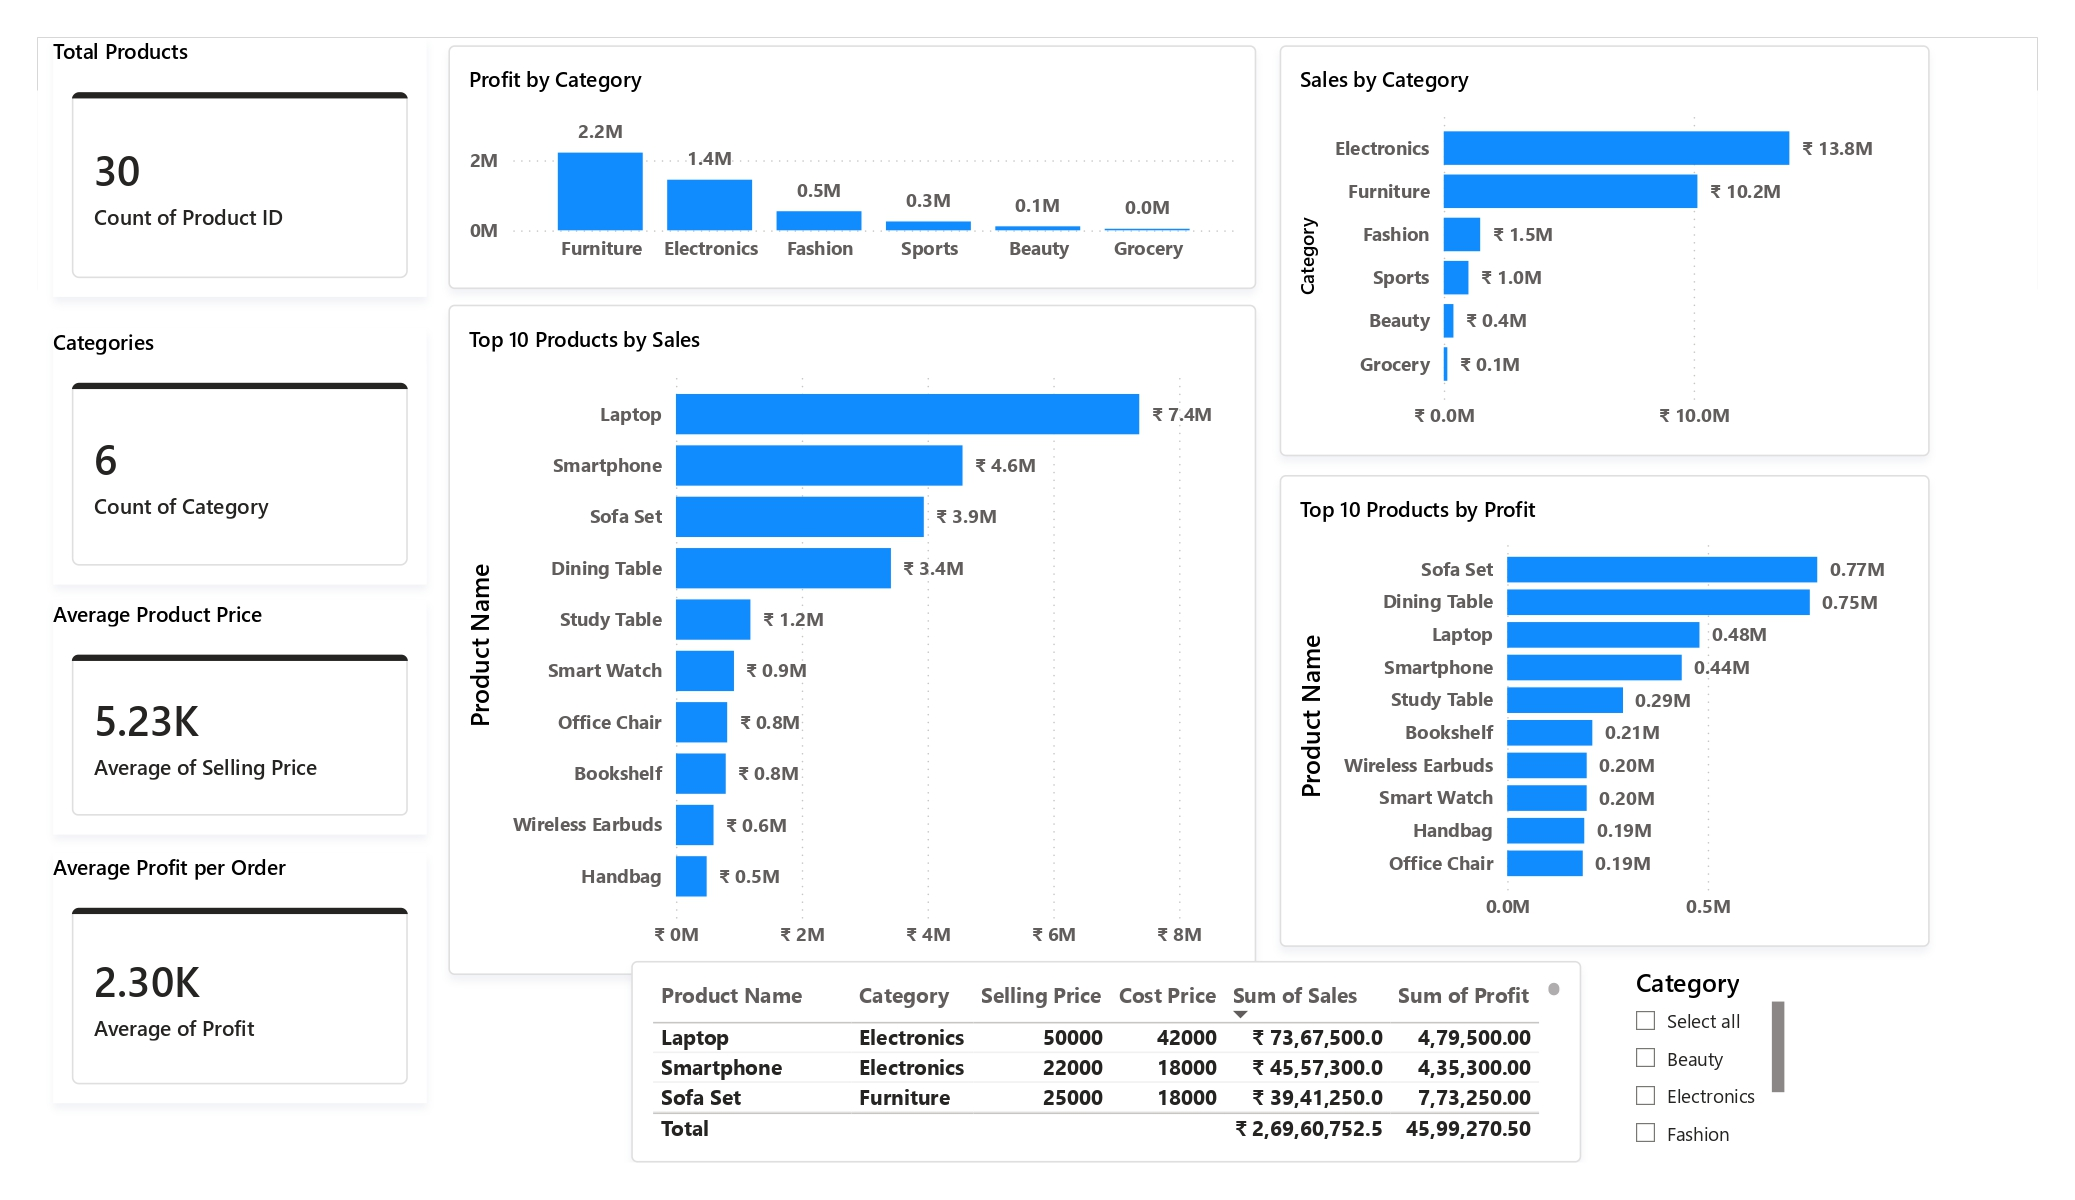

Layout of this report page (visuals, bound fields, positions):
{"tool":"powerbi","page":{"name":"Product Analytics","canvas":[1280,720],"ordinal":2},"visuals":[{"type":"cardVisual","title":"Total Products","fields":{"Data":["Count(Products.Product ID)"]},"box":[9.8,0,239.7,166.3],"z":0},{"type":"cardVisual","title":"Categories","fields":{"Data":["Count(Products.Category)"]},"box":[9.8,185.9,239.7,163.9],"z":1000},{"type":"cardVisual","title":"Average Product Price","fields":{"Data":["Avg(Products.Selling Price)"]},"box":[9.8,359.5,239.7,150.4],"z":2000},{"type":"cardVisual","title":"Average Profit per Order","fields":{"Data":["Avg(Orders.Profit)"]},"box":[9.8,522.1,239.7,160.2],"z":3000},{"type":"clusteredBarChart","title":"Sales by Category","fields":{"Category":["Products.Category"],"Y":["Sum(Orders.Sales)"]},"box":[794.8,4.9,415.8,262.9],"z":4000},{"type":"clusteredColumnChart","title":"Profit by Category","fields":{"Category":["Products.Category"],"Y":["Sum(Orders.Profit)"]},"box":[262.9,4.9,517.3,156.5],"z":5000},{"type":"clusteredBarChart","title":"Top 10 Products by Sales","fields":{"Category":["Products.Product Name"],"Y":["Sum(Orders.Sales)"]},"box":[262.9,171.2,517.3,429.2],"z":6000},{"type":"clusteredBarChart","title":"Top 10 Products by Profit","fields":{"Category":["Products.Product Name"],"Y":["Sum(Orders.Profit)"]},"box":[794.8,280,415.8,302],"z":7000},{"type":"tableEx","fields":{"Values":["Products.Product Name","Products.Category","Products.Selling Price","Products.Cost Price","Sum(Orders.Sales)","Sum(Orders.Profit)"]},"box":[380.3,590.6,607.7,129.6],"z":8000},{"type":"slicer","fields":{"Values":["Products.Category"]},"box":[1015,594.3,102.7,122.3],"z":9000}]}

Visuals, with their boxes on the page's 1280x720 design canvas (x1, y1, x2, y2). These are canvas units, not pixel positions in the 2075x1200 screenshot, which may show the page scaled, cropped or inside an application window:
"Total Products" cardVisual: rect(10, 0, 250, 166)
"Categories" cardVisual: rect(10, 186, 250, 350)
"Average Product Price" cardVisual: rect(10, 360, 250, 510)
"Average Profit per Order" cardVisual: rect(10, 522, 250, 682)
"Sales by Category" clusteredBarChart: rect(795, 5, 1211, 268)
"Profit by Category" clusteredColumnChart: rect(263, 5, 780, 161)
"Top 10 Products by Sales" clusteredBarChart: rect(263, 171, 780, 600)
"Top 10 Products by Profit" clusteredBarChart: rect(795, 280, 1211, 582)
tableEx - Products.Product Name x Products.Category: rect(380, 591, 988, 720)
slicer - Products.Category: rect(1015, 594, 1118, 717)
